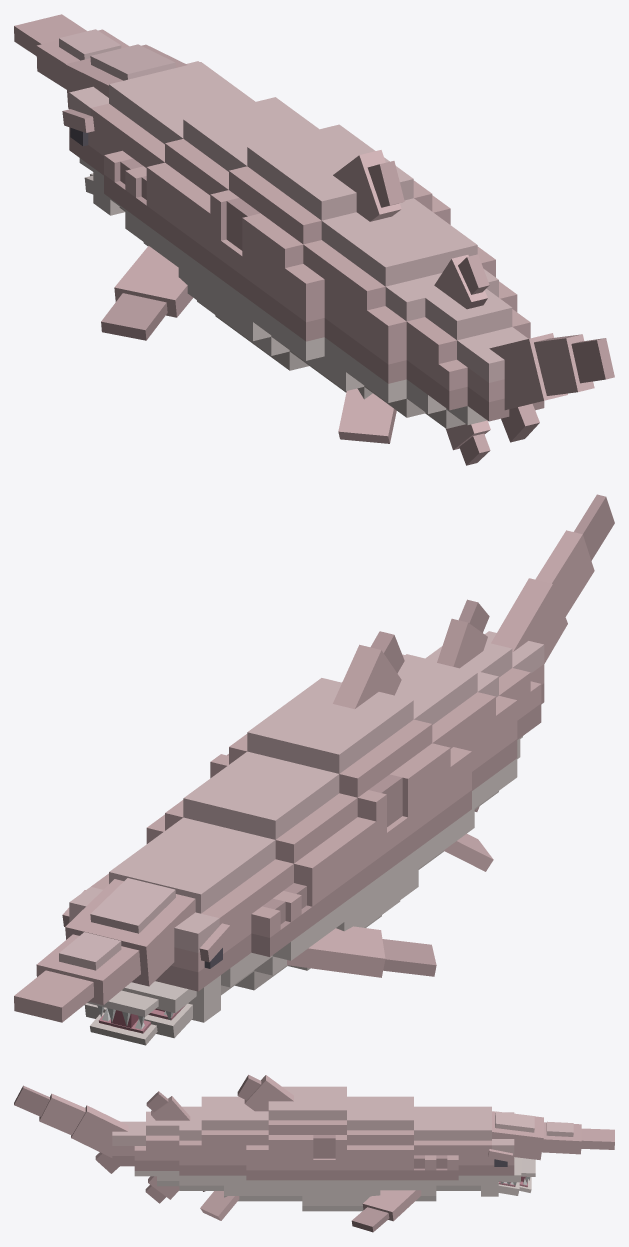
File: GoblinShark.glb
The picture shows the model from 3 angles, top to bottom: view 1: azimuth 30°, elevation 25°; view 2: azimuth 150°, elevation 25°; view 3: azimuth 270°, elevation 25°; orthographic projection. The views are drawn at different scales.
Visible parts, largest first — view 1: S1, S2, S5, S3, S4, Head, Tail, Jaw; view 2: S1, Head, S2, S3, Tail, S4, S5, Jaw; view 3: S2, S1, Head, S3, S5, S4, Tail, Jaw.
Part boxes in pixels (x1=…): S1: x1=101, y1=85, x2=306, y2=340; S2: x1=178, y1=120, x2=375, y2=370; S5: x1=367, y1=254, x2=530, y2=465; S3: x1=253, y1=150, x2=450, y2=389; S4: x1=324, y1=214, x2=495, y2=443; Head: x1=14, y1=14, x2=232, y2=211; Tail: x1=467, y1=333, x2=614, y2=442; Jaw: x1=79, y1=158, x2=124, y2=215; S1: x1=141, y1=775, x2=436, y2=990; Head: x1=14, y1=848, x2=251, y2=1022; S2: x1=210, y1=701, x2=418, y2=970; S3: x1=290, y1=631, x2=471, y2=869; Tail: x1=484, y1=494, x2=614, y2=704; S4: x1=395, y1=654, x2=495, y2=871; S5: x1=405, y1=599, x2=541, y2=811; Jaw: x1=84, y1=975, x2=220, y2=1045; S2: x1=302, y1=1086, x2=380, y2=1211; S1: x1=351, y1=1096, x2=458, y2=1232; Head: x1=458, y1=1106, x2=614, y2=1190; S3: x1=237, y1=1074, x2=302, y2=1201; S5: x1=134, y1=1091, x2=201, y2=1203; S4: x1=200, y1=1096, x2=246, y2=1220; Tail: x1=14, y1=1085, x2=134, y2=1173; Jaw: x1=481, y1=1157, x2=535, y2=1196.
Size of the model in its own units: 8.2 by 5.61 by 24.22.
